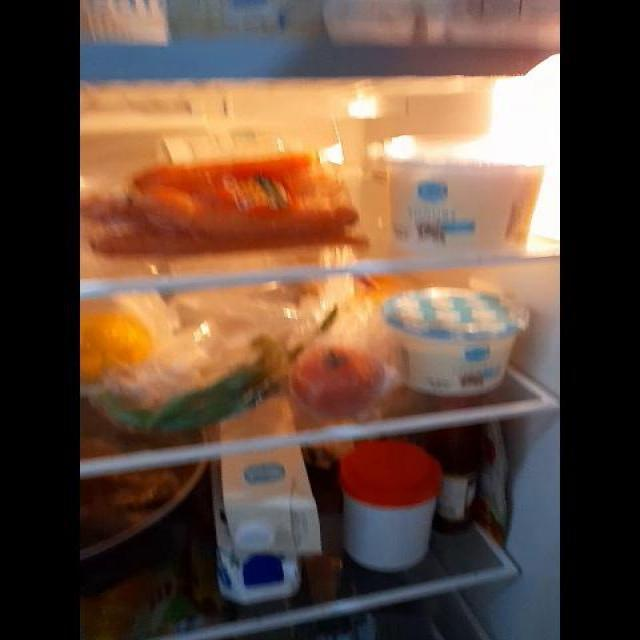carrot: (88, 165, 353, 245)
green chilies: (105, 354, 280, 438)
lemon: (80, 309, 152, 382)
milk: (215, 461, 317, 601)
tomato: (295, 347, 380, 407)
yoghurt: (377, 142, 543, 245), (385, 289, 523, 390)
